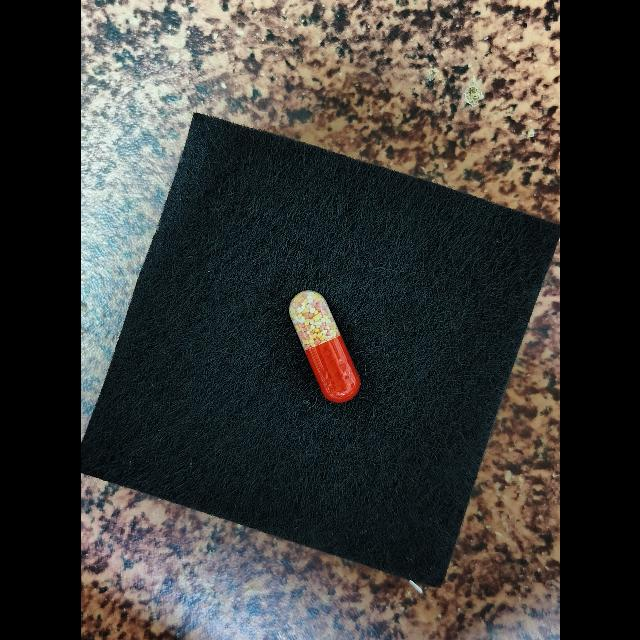Intact Capsule: (289, 290, 360, 403)
